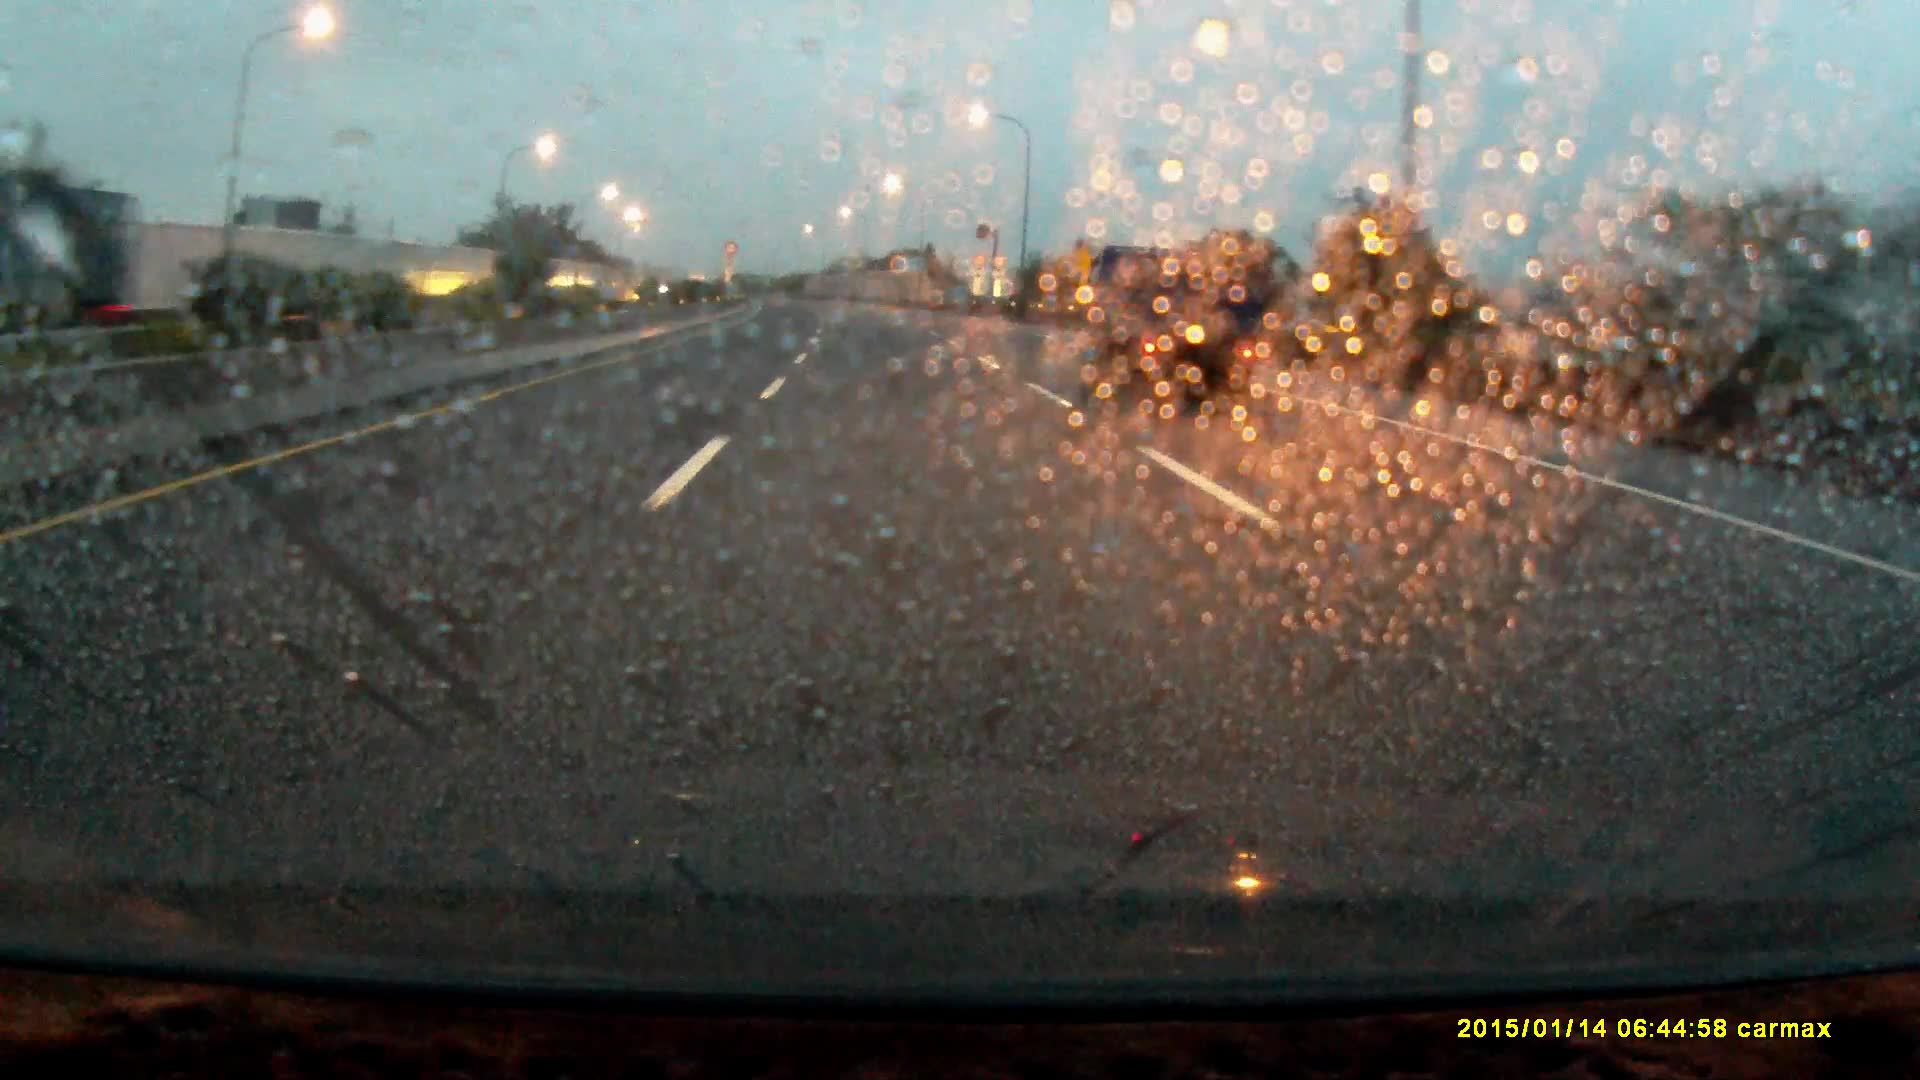vehicle: (1077, 247, 1255, 410), (1, 187, 140, 326)
